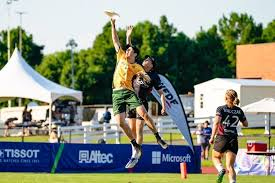disc: (103, 8, 120, 21)
